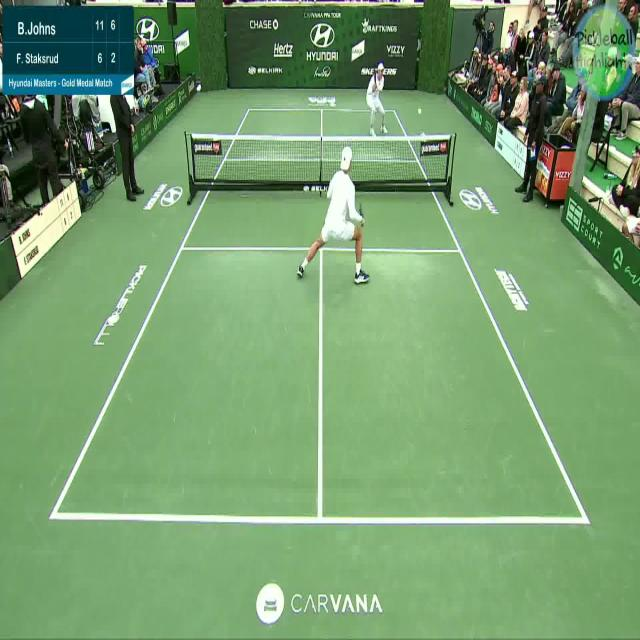ball: (416, 104, 422, 117)
